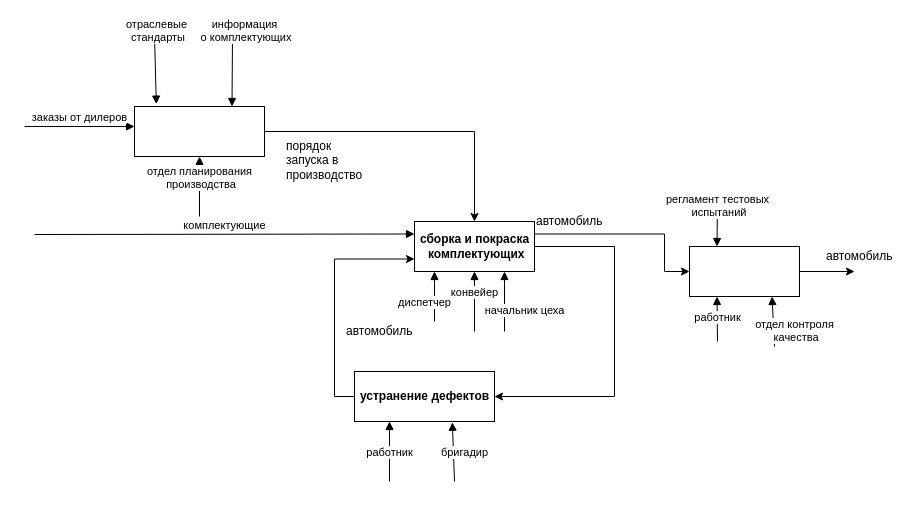
Some shapes in this 922 by 507 pixel diagram are drawn without their labels. Here are the shapes that lost their labels. From the top down, the centre of each, then its label:
At (199,131): "составление производственного плана".
At (744,271): "тестирование".
